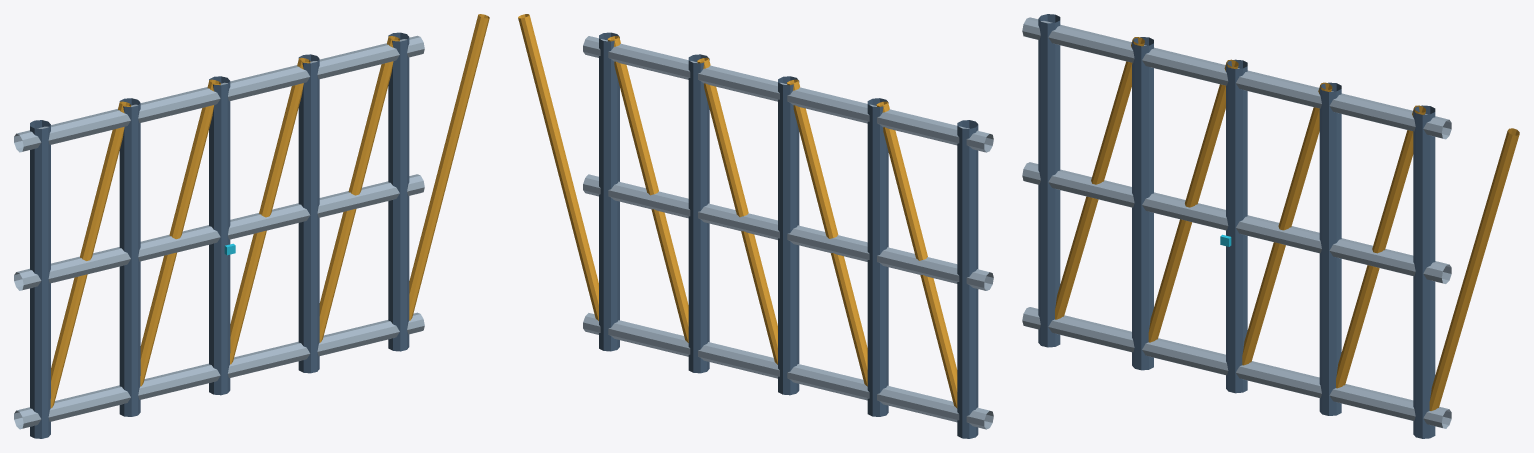
Rendered from 48_L86_RadiatorMountingSpaceTruss.fbx.
3 renders of one model, left to right at view 1: azimuth 30°, elevation 25°; view 2: azimuth 150°, elevation 25°; view 3: azimuth 330°, elevation 25°, orthographic. The views are drawn at different scales.
Visible parts, largest first — view 1: L86_RadiatorMountingSpaceTruss; view 2: L86_RadiatorMountingSpaceTruss; view 3: L86_RadiatorMountingSpaceTruss.
Part boxes in pixels (box(x1,y1,x2,y2)): L86_RadiatorMountingSpaceTruss: box(14, 14, 489, 438); L86_RadiatorMountingSpaceTruss: box(518, 14, 993, 438); L86_RadiatorMountingSpaceTruss: box(1022, 14, 1519, 438).
Size of the model in its own units: 551 by 350 by 35.25.
